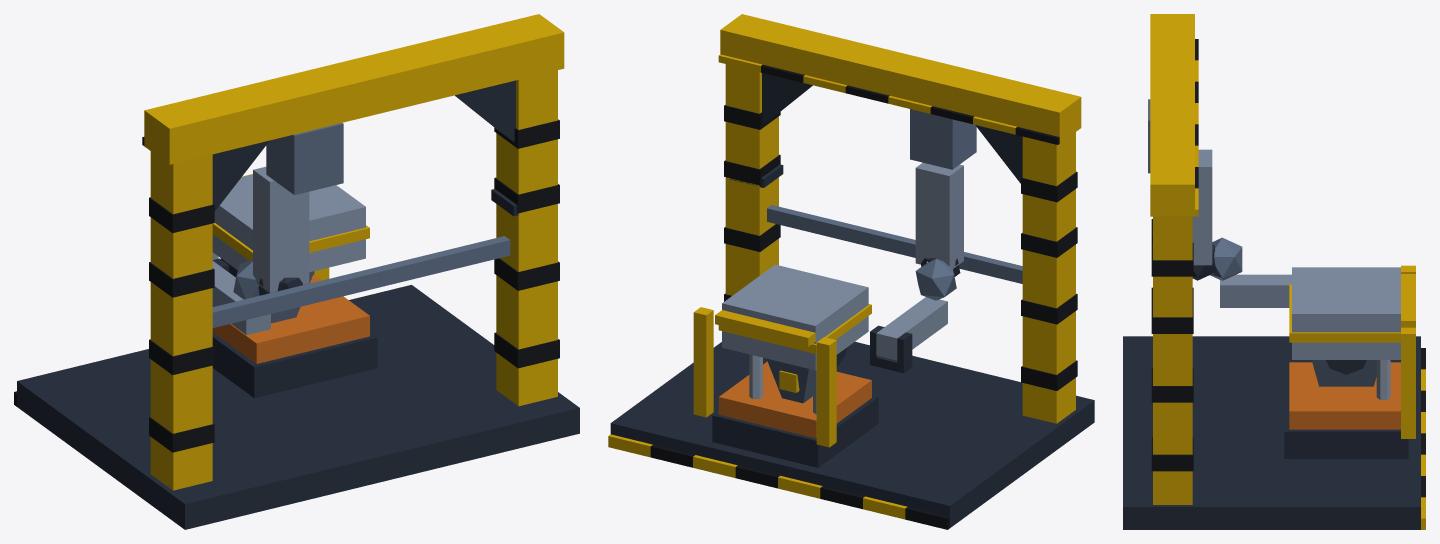
The model's file is Decor_MechaHangar_RepairArm.fbx.
3 renders of one model, left to right at view 1: azimuth 30°, elevation 25°; view 2: azimuth 150°, elevation 25°; view 3: azimuth 270°, elevation 25°, orthographic. The views are drawn at different scales.
Visible parts, largest first — view 1: RepairArm_Body; view 2: RepairArm_Body; view 3: RepairArm_Body.
Part boxes in pixels (x1=…): RepairArm_Body: x1=14, y1=14, x2=579, y2=529; RepairArm_Body: x1=608, y1=14, x2=1094, y2=529; RepairArm_Body: x1=1123, y1=14, x2=1425, y2=529.
Size of the model in its own units: 16 by 15.1 by 12.
